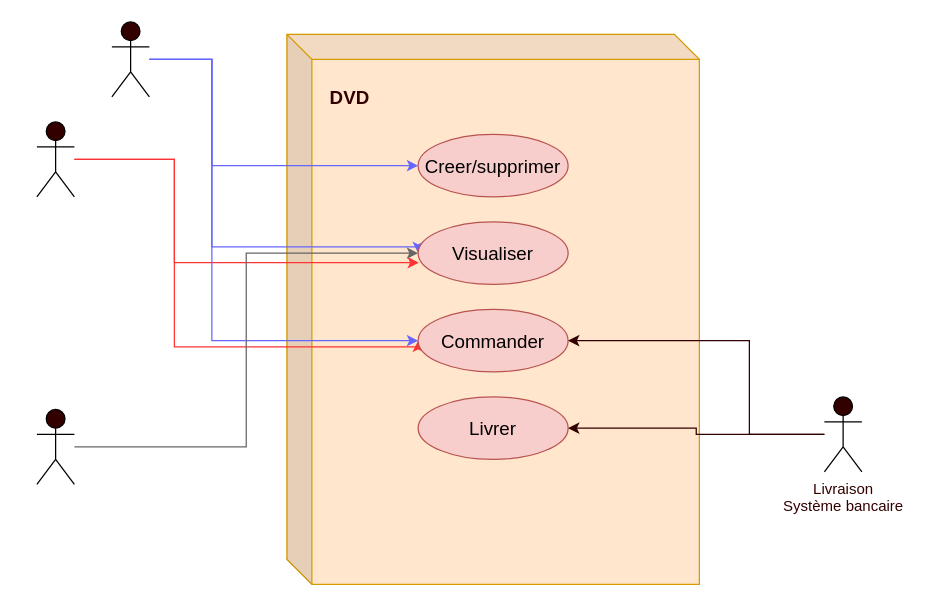
This 925x606 diagram has some shape labels left out. The shapes that lost their labels are listed below. From the top down, each one's box as (x1, y1, x2, y2) in pixels, then its label:
(111, 21, 149, 97): a Employé
(36, 121, 74, 197): Client
(36, 408, 74, 484): Internaute
